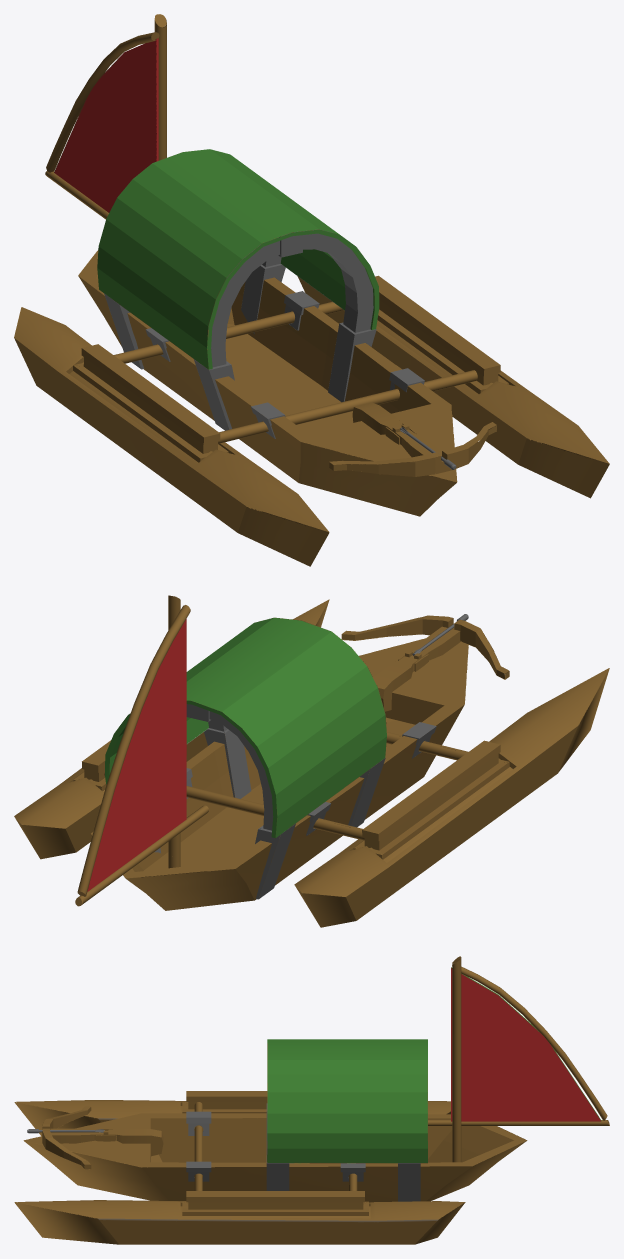
The model's file is Model Textured Enemy_Shooterr.fbx.
3 views of the same model, one above another, from view 1: azimuth 30°, elevation 25°; view 2: azimuth 150°, elevation 25°; view 3: azimuth 270°, elevation 25° (orthographic). The views are drawn at different scales.
Parts seen in each view (by area): view 1: Shooter 004, Shooter Base, Shooter_Outrigger, Shooter_Outrigger001, Shooter metal 1, Shooter_Poll, Shooter metal 003, Shooter_Poll001; view 2: Shooter 004, Shooter Base, Shooter_Outrigger, Shooter_Outrigger001, Shooter metal 003, Shooter metal 1, Shooter_Poll001, Shooter_Poll, Shooter 006; view 3: Shooter 004, Shooter Base, Shooter_Outrigger001, Shooter_Outrigger, Shooter metal 003, Shooter metal 1, Shooter_Poll, Shooter 006, Shooter 005, Shooter 1.
Boxes of the visible parts, x1,y1,x2,y2 form: Shooter 004: [54, 38, 379, 369]; Shooter Base: [45, 14, 496, 516]; Shooter_Outrigger: [14, 307, 329, 566]; Shooter_Outrigger001: [297, 275, 609, 498]; Shooter metal 1: [194, 229, 376, 430]; Shooter_Poll: [218, 370, 477, 443]; Shooter metal 003: [104, 255, 285, 369]; Shooter_Poll001: [113, 301, 343, 363]; Shooter 004: [87, 617, 386, 891]; Shooter Base: [75, 595, 509, 910]; Shooter_Outrigger: [294, 668, 609, 927]; Shooter_Outrigger001: [14, 599, 329, 859]; Shooter metal 003: [155, 704, 295, 899]; Shooter metal 1: [204, 720, 385, 827]; Shooter_Poll001: [104, 771, 373, 840]; Shooter_Poll: [386, 732, 468, 760]; Shooter 006: [402, 722, 436, 758]; Shooter 004: [267, 967, 601, 1163]; Shooter Base: [23, 956, 609, 1202]; Shooter_Outrigger001: [14, 1191, 465, 1244]; Shooter_Outrigger: [14, 1091, 450, 1136]; Shooter metal 003: [398, 1163, 420, 1201]; Shooter metal 1: [266, 1103, 289, 1190]; Shooter_Poll: [194, 1102, 202, 1190]; Shooter 006: [186, 1111, 211, 1135]; Shooter 005: [186, 1161, 211, 1181]; Shooter 1: [340, 1163, 365, 1181].
Size of the model in its own units: 61.9 by 55.51 by 131.
Materials: 3 (3 with a texture image).
